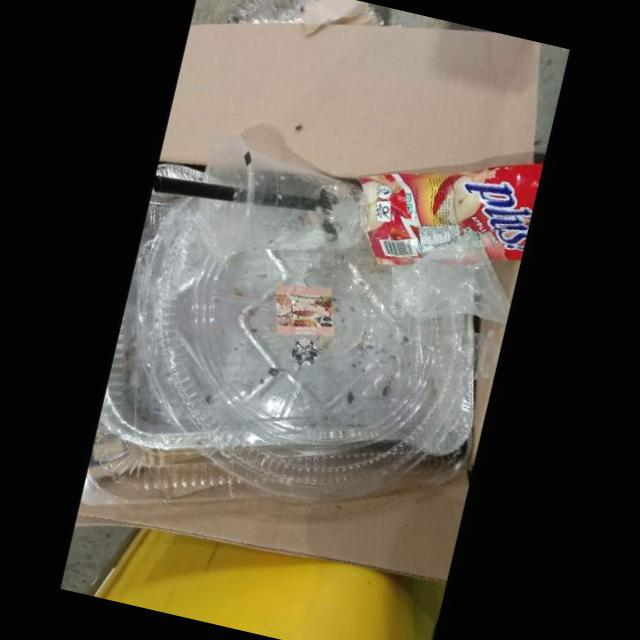bao_bi_thuc_pham: (360, 162, 544, 265)
carton: (159, 22, 541, 178), (75, 475, 470, 582)
hop_nhua: (199, 136, 368, 259)
ong_hut_nhua: (152, 175, 236, 201)
